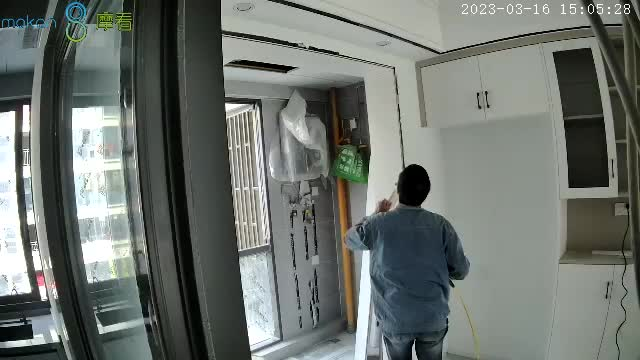people: (342, 164, 471, 360)
window: (223, 100, 286, 350)
